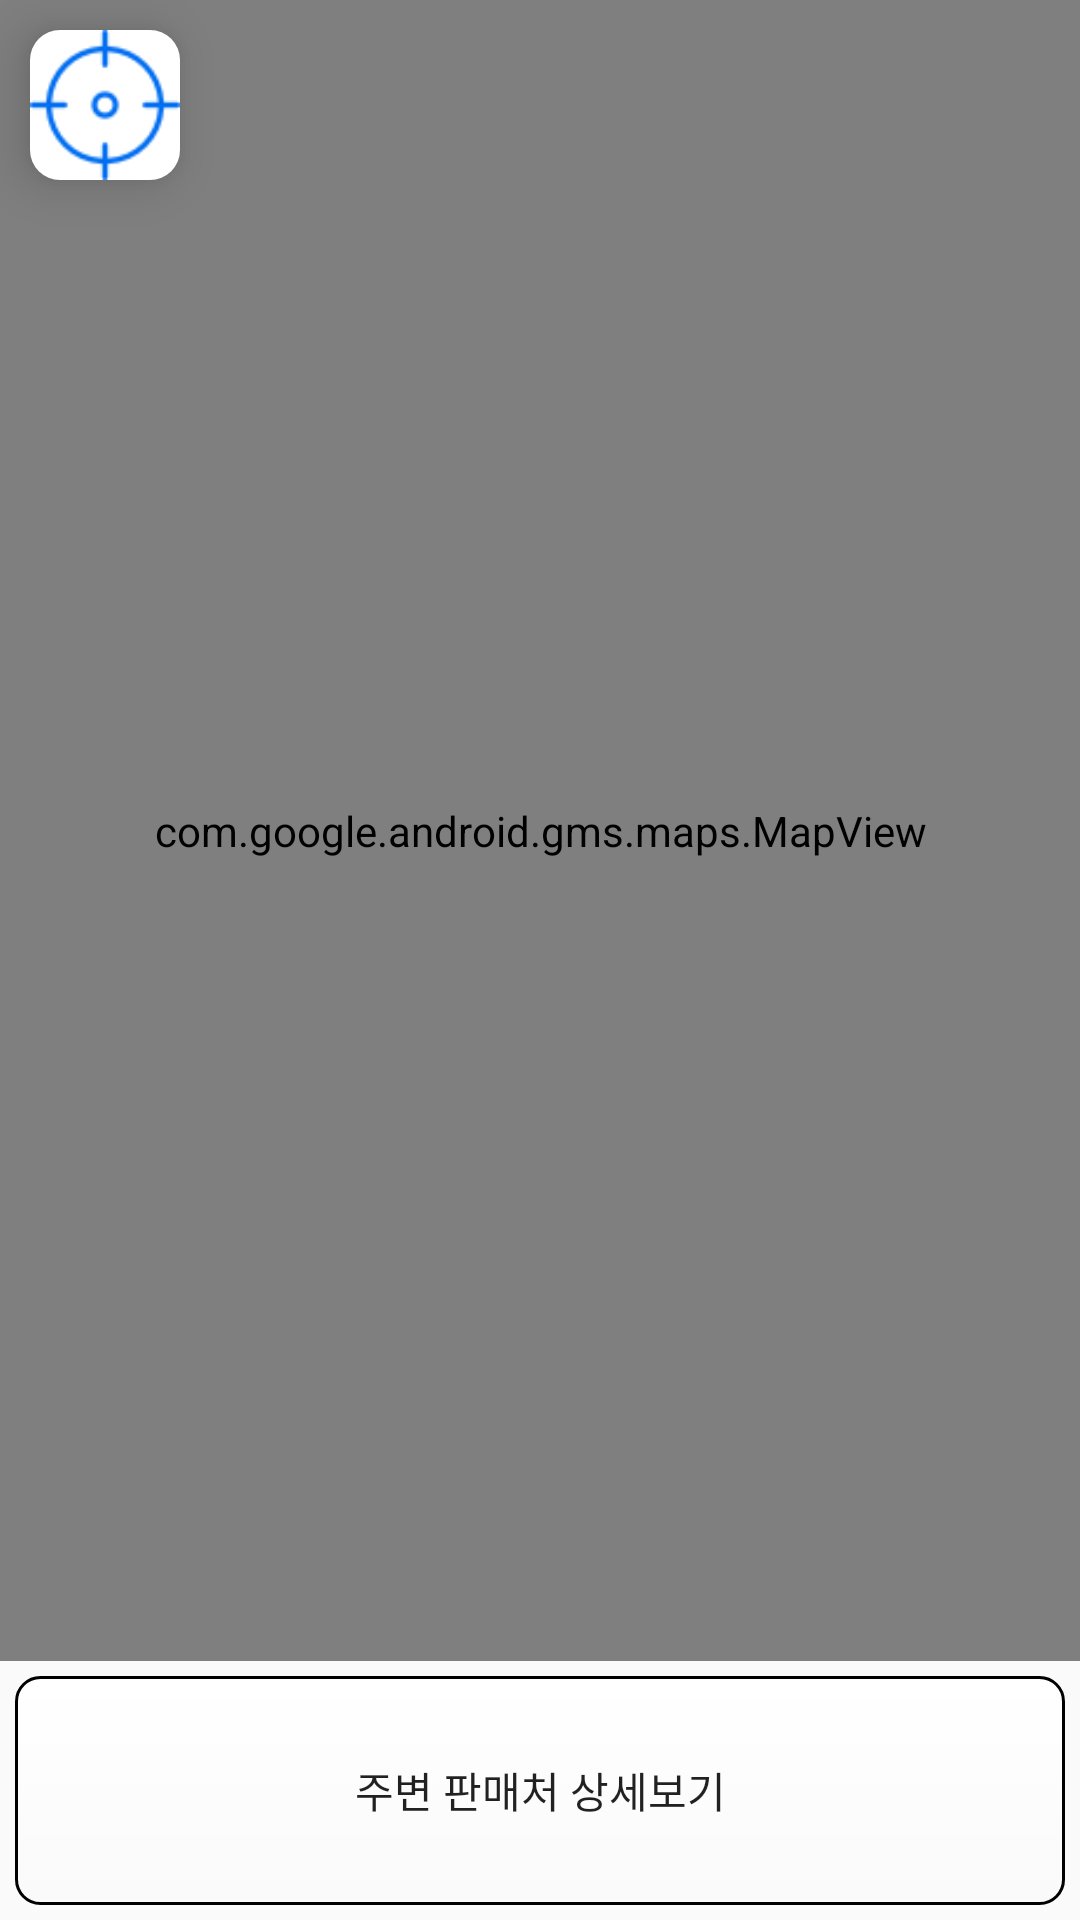

Named icons in this screenshot (1080 x 1920) and their bounding boxes, (x1, y1, x2, y2):
target: (30, 30, 180, 180)
